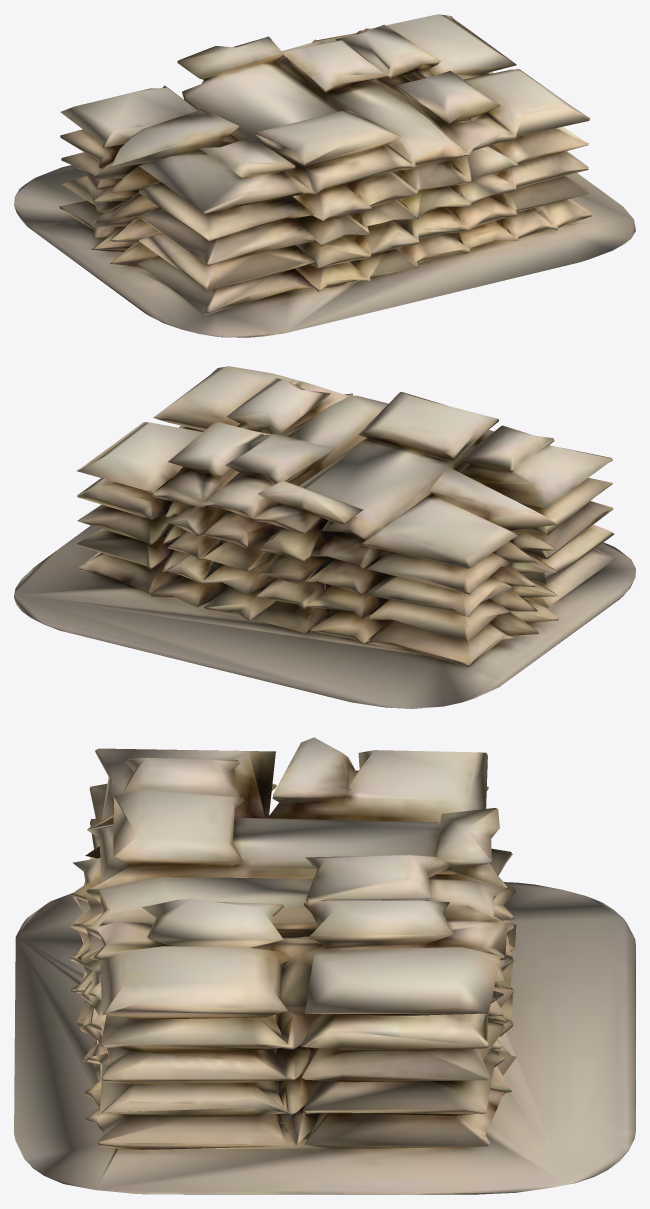
The model's file is prop_sandbags.glb.
3 views of the same model, one above another, from view 1: azimuth 30°, elevation 25°; view 2: azimuth 150°, elevation 25°; view 3: azimuth 270°, elevation 25° (orthographic). The views are drawn at different scales.
Parts seen in each view (by area): view 1: node_0; view 2: node_0; view 3: node_0.
Boxes of the visible parts, <box> form: node_0: <box>14,14,635,337</box>; node_0: <box>14,366,635,708</box>; node_0: <box>14,737,635,1194</box>.
Bounding box in the file's own units: 0.9941 × 0.2913 × 0.8346.
Materials: 1 (1 with a texture image).
